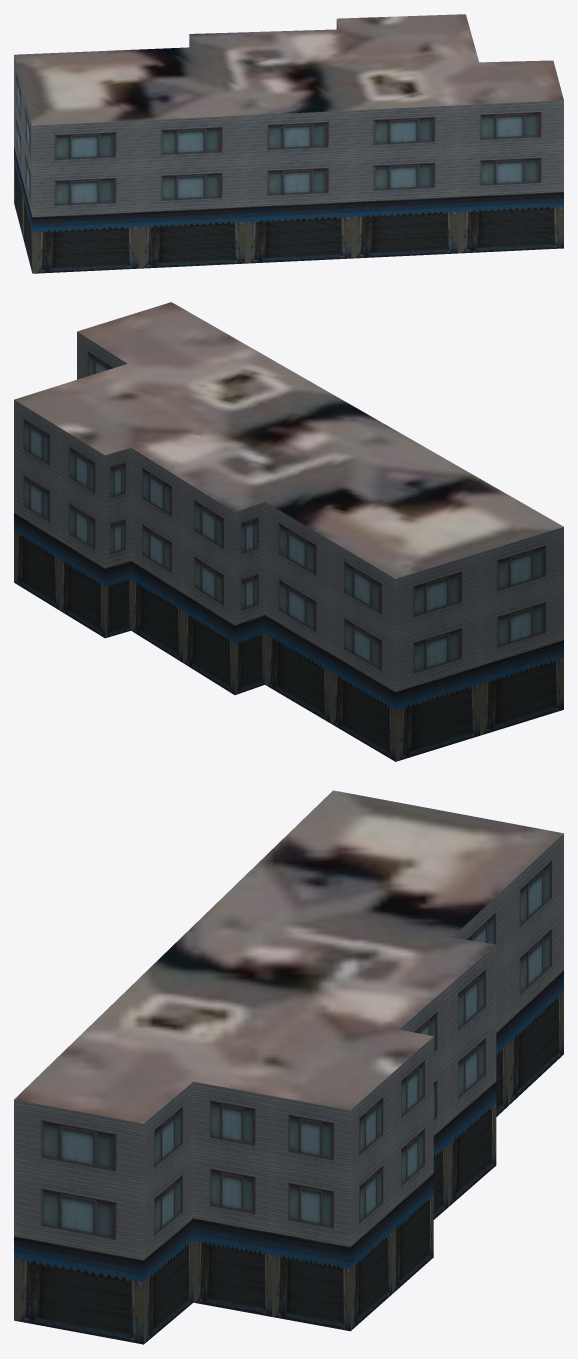
The picture shows the model from 3 angles, top to bottom: view 1: azimuth 30°, elevation 25°; view 2: azimuth 150°, elevation 25°; view 3: azimuth 270°, elevation 25°; orthographic projection. The views are drawn at different scales.
Parts seen in each view (by area): view 1: SketchUp (×5); view 2: SketchUp (×14); view 3: SketchUp (×13).
Boxes of the visible parts, x1,y1,x2,y2 form: SketchUp (×5): (14,14,563,273); SketchUp (×14): (14,302,563,761); SketchUp (×13): (14,790,563,1344).
Bounding box in the file's own units: 27.93 × 19.48 × 8.64.
3 materials, 3 textured.
